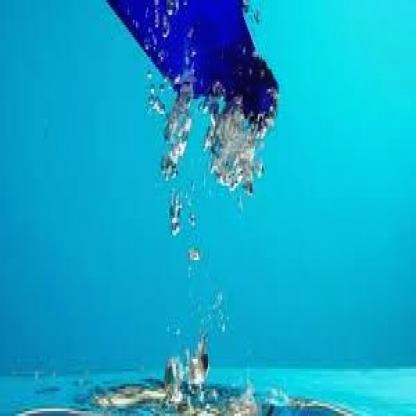pbottle: (94, 3, 282, 154)
